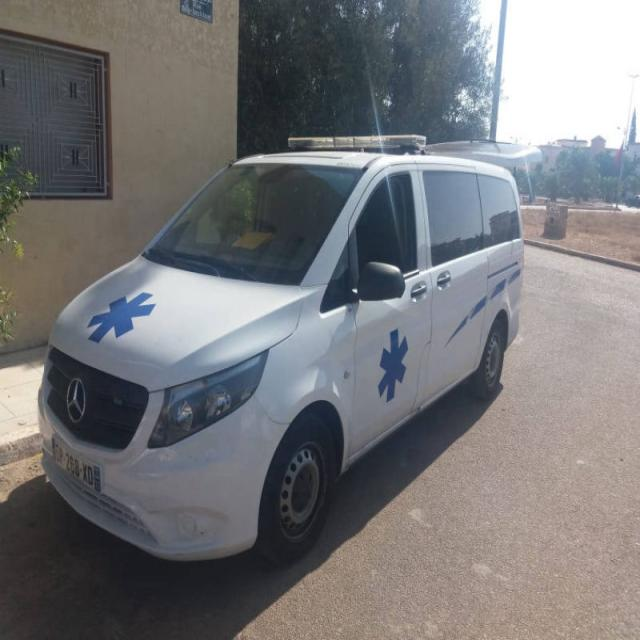ambulance: (39, 128, 525, 566)
